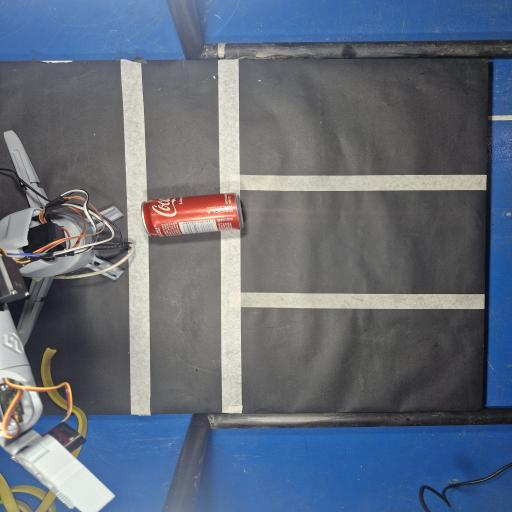lata: (142, 192, 244, 237)
